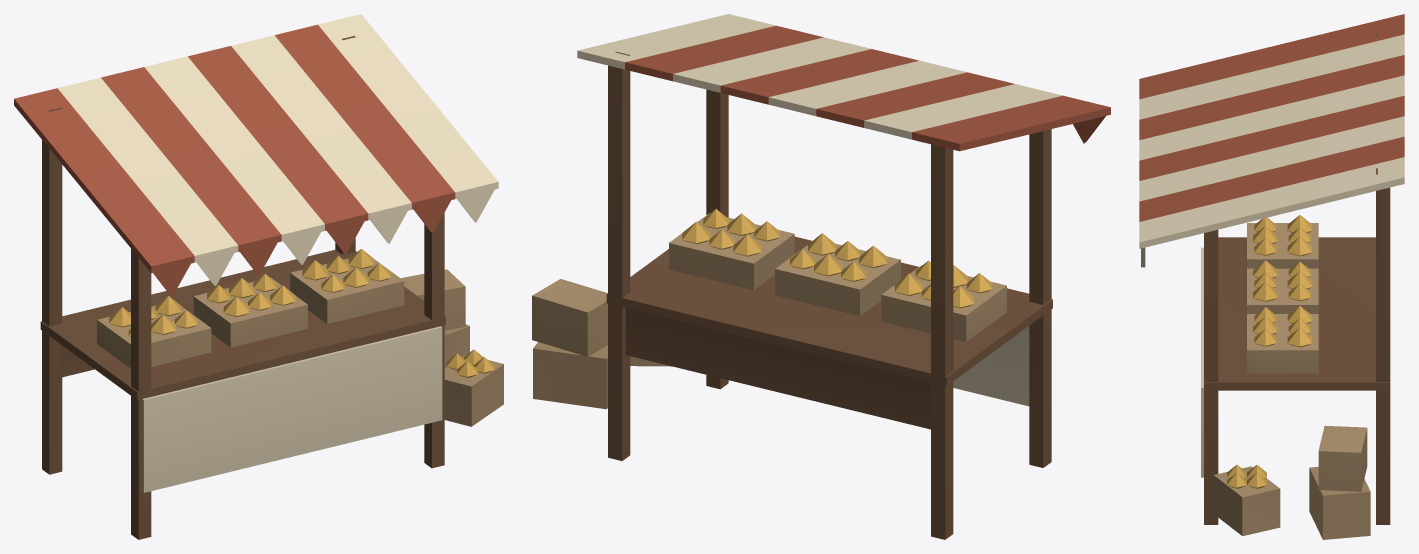
File: stall_0.glb
The picture shows the model from 3 angles, left to right: view 1: azimuth 30°, elevation 25°; view 2: azimuth 150°, elevation 25°; view 3: azimuth 270°, elevation 25°; orthographic projection. The views are drawn at different scales.
Visible parts, largest first — view 1: stall_0; view 2: stall_0; view 3: stall_0.
Part boxes in pixels (x1=…): stall_0: x1=14, y1=14, x2=503, y2=539; stall_0: x1=532, y1=14, x2=1110, y2=539; stall_0: x1=1139, y1=14, x2=1404, y2=539.
Size of the model in its own units: 3.22 by 2.75 by 1.85.
